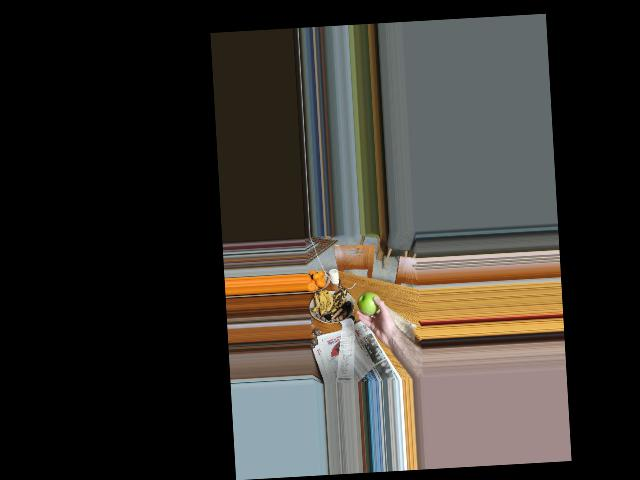apple: (357, 291, 382, 317)
